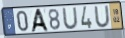0: (16, 10, 30, 33)
4: (80, 5, 94, 31)
8: (48, 8, 62, 31)
A: (30, 8, 50, 33)
U: (93, 4, 112, 29), (61, 6, 80, 30)
